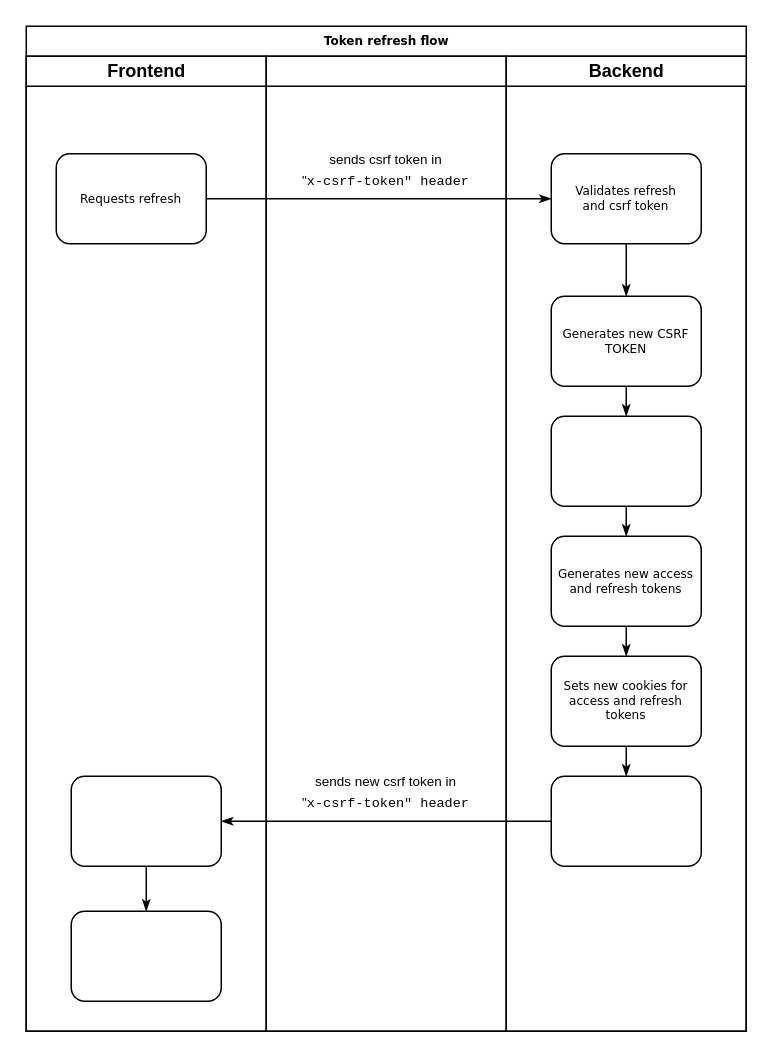
The diagram is 773 pixels wide and 1058 high, and some of its shapes have lost their labels. The shapes that lost their labels are listed below. From the top down, each one's centre as x and y in pixels, then its label:
(625,460): Deletes previous refresh token
(145,820): Saves new csrf token in session storage
(625,820): Returns cookies and csrf token in header
(145,955): Tokens refreshed
